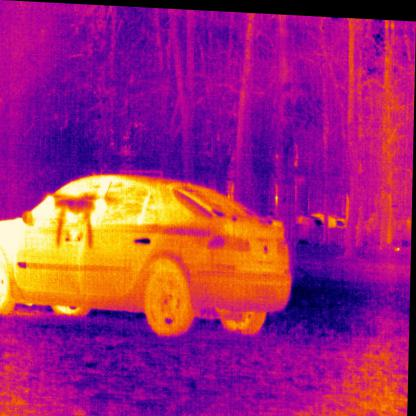drone: (45, 193, 106, 249)
